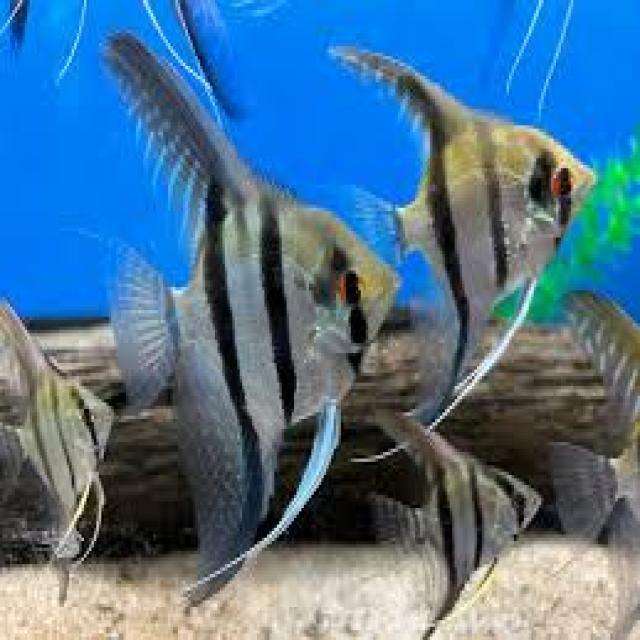AngelFish: (101, 34, 404, 600), (341, 31, 598, 447), (375, 401, 545, 640), (0, 304, 115, 616)
